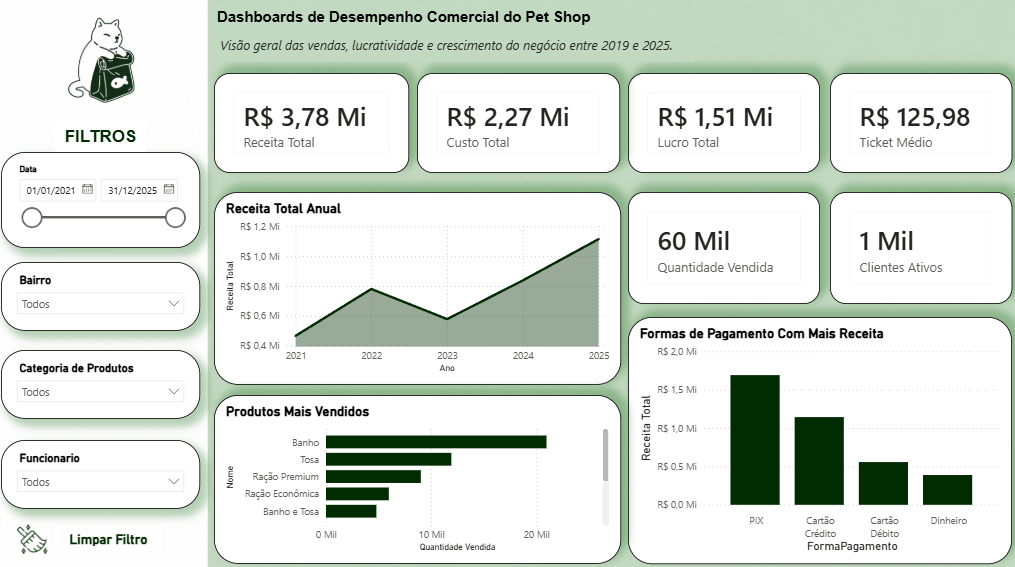

The page's visual inventory and layout, read from the dashboard file:
{"tool":"powerbi","page":{"name":"Página 1","canvas":[1280,720],"ordinal":0},"visuals":[{"type":"image","box":[46.2,0,172.5,163.8],"z":0},{"type":"cardVisual","fields":{"Data":["FatoVendas.Receita Total"]},"box":[273.8,97.5,243.8,125],"z":1000},{"type":"cardVisual","fields":{"Data":["FatoVendas.Lucro Total"]},"box":[791.2,97.5,240,125],"z":2000},{"type":"cardVisual","fields":{"Data":["FatoVendas.Custo Total"]},"box":[527.5,97.5,253.8,125],"z":3000},{"type":"textbox","box":[272.5,11.2,551.2,35],"z":4000},{"type":"textbox","box":[276.6,45.7,597.7,36.6],"z":5000},{"type":"stackedAreaChart","title":"Receita Total Anual","fields":{"Category":["DimCalendario.Ano"],"Y":["FatoVendas.Receita Total"]},"box":[273.8,246.2,508.8,241.2],"z":6000},{"type":"cardVisual","fields":{"Data":["FatoVendas.Ticket Médio"]},"box":[1043.8,97.5,227.5,125],"z":7000},{"type":"cardVisual","fields":{"Data":["FatoVendas.Quantidade Vendida"]},"box":[791.2,246.2,240,140],"z":8000},{"type":"cardVisual","fields":{"Data":["FatoVendas.Clientes Ativos"]},"box":[1043.8,246.2,227.5,140],"z":9000},{"type":"columnChart","title":"Formas de Pagamento Com Mais Receita","fields":{"Category":["FatoVendas.FormaPagamento"],"Y":["FatoVendas.Receita Total"]},"box":[791.2,402.5,480,308.8],"z":10000},{"type":"clusteredBarChart","title":"Produtos Mais Vendidos","fields":{"Y":["FatoVendas.Quantidade Vendida"],"Category":["DimProdutosServicos.Nome"]},"box":[273.8,500,508.8,211.2],"z":11000},{"type":"slicer","fields":{"Values":["DimClientes.Bairro"]},"box":[7.5,333.8,248.8,86.2],"z":12000},{"type":"slicer","fields":{"Values":["DimCalendario.Data"]},"box":[7.5,196.2,248.8,120],"z":13000},{"type":"textbox","box":[75,160,113.8,36.2],"z":14000},{"type":"slicer","fields":{"Values":["DimProdutosServicos.Categoria"]},"box":[7.5,443.8,248.8,86.2],"z":15000},{"type":"slicer","fields":{"Values":["DimFuncionarios.NomeFuncionario"]},"box":[7.5,556.2,248.8,86.2],"z":16000},{"type":"image","box":[27.5,658.8,37.5,42.5],"z":17000},{"type":"actionButton","box":[75,663.8,133.8,31.2],"z":18000}]}

Visuals, with their boxes in screenshot pixels (x1, y1, x2, y2), scaled from the page's 1280x720 canvas onto the 1015x567 screenshot:
image: <region>37, 0, 173, 129</region>
cardVisual - FatoVendas.Receita Total: <region>217, 77, 410, 175</region>
cardVisual - FatoVendas.Lucro Total: <region>627, 77, 818, 175</region>
cardVisual - FatoVendas.Custo Total: <region>418, 77, 620, 175</region>
textbox: <region>216, 9, 653, 36</region>
textbox: <region>219, 36, 693, 65</region>
"Receita Total Anual" stackedAreaChart: <region>217, 194, 621, 384</region>
cardVisual - FatoVendas.Ticket Médio: <region>828, 77, 1008, 175</region>
cardVisual - FatoVendas.Quantidade Vendida: <region>627, 194, 818, 304</region>
cardVisual - FatoVendas.Clientes Ativos: <region>828, 194, 1008, 304</region>
"Formas de Pagamento Com Mais Receita" columnChart: <region>627, 317, 1008, 560</region>
"Produtos Mais Vendidos" clusteredBarChart: <region>217, 394, 621, 560</region>
slicer - DimClientes.Bairro: <region>6, 263, 203, 331</region>
slicer - DimCalendario.Data: <region>6, 155, 203, 249</region>
textbox: <region>59, 126, 150, 155</region>
slicer - DimProdutosServicos.Categoria: <region>6, 349, 203, 417</region>
slicer - DimFuncionarios.NomeFuncionario: <region>6, 438, 203, 506</region>
image: <region>22, 519, 52, 552</region>
actionButton: <region>59, 523, 166, 547</region>
